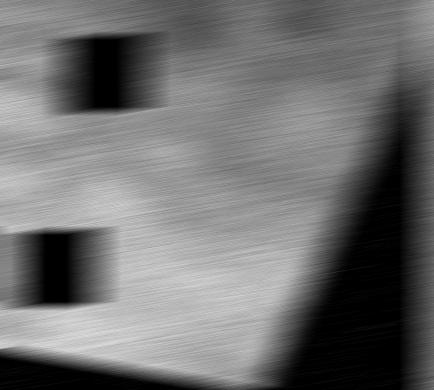Airbag: (0, 0, 434, 389), (420, 1, 434, 390)
